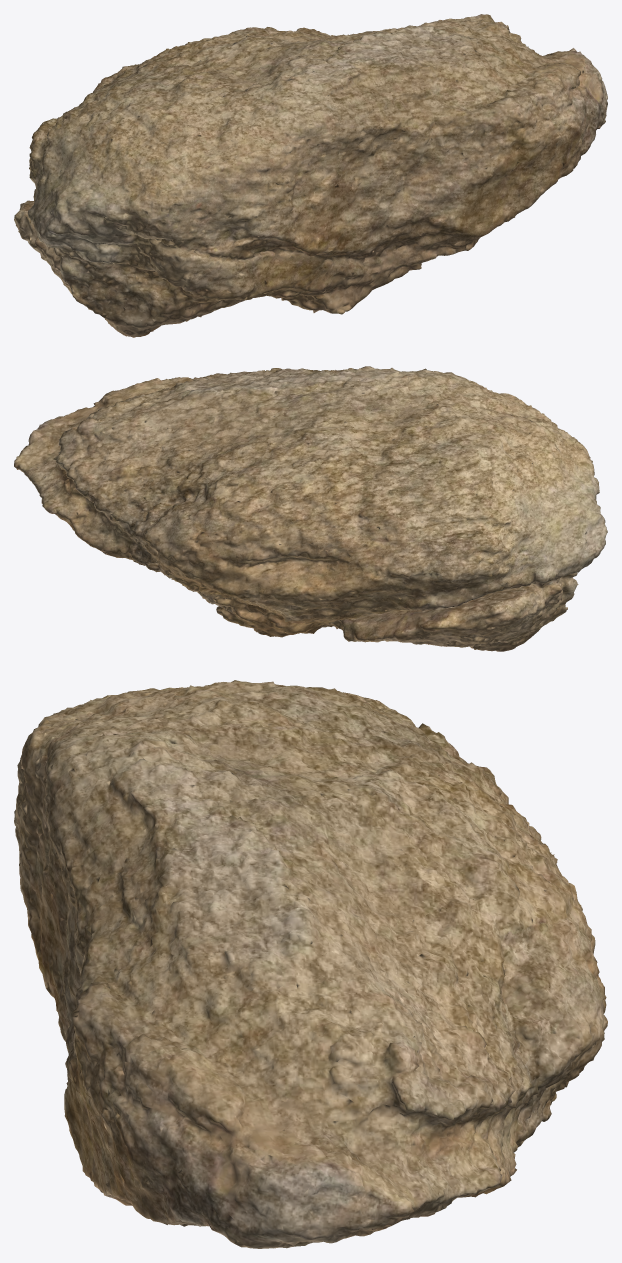
File: namaqualand_boulder_05.glb
The picture shows the model from 3 angles, top to bottom: view 1: azimuth 30°, elevation 25°; view 2: azimuth 150°, elevation 25°; view 3: azimuth 270°, elevation 25°; orthographic projection. The views are drawn at different scales.
Parts seen in each view (by area): view 1: namaqualand_boulder_05; view 2: namaqualand_boulder_05; view 3: namaqualand_boulder_05.
Part boxes in pixels (<box>): namaqualand_boulder_05: <box>14,14,607,337</box>; namaqualand_boulder_05: <box>14,366,607,651</box>; namaqualand_boulder_05: <box>14,680,607,1248</box>.
Bounding box in the file's own units: 1.36 × 0.5384 × 0.748.
Materials: 1 (1 with a texture image).
